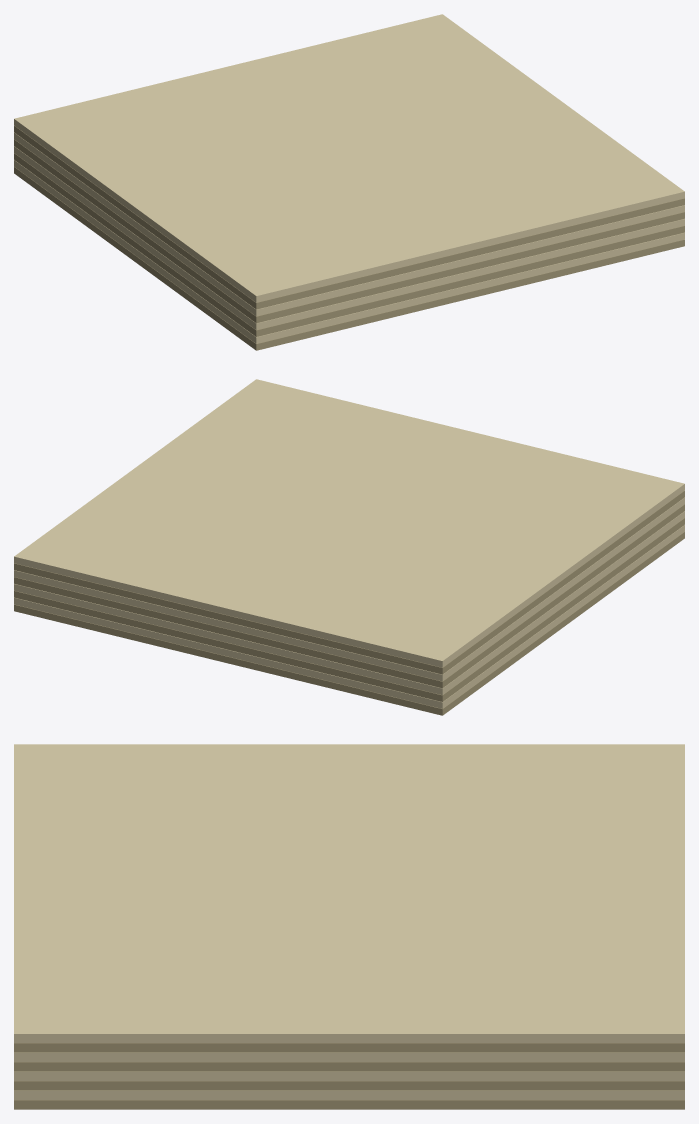
File: paper.glb
3 renders of one model, top to bottom at view 1: azimuth 30°, elevation 25°; view 2: azimuth 150°, elevation 25°; view 3: azimuth 270°, elevation 25°, orthographic. The views are drawn at different scales.
Visible parts, largest first — view 1: PaperLayer_7, PaperLayer_1, PaperLayer_5, PaperLayer_6, PaperLayer_0, PaperLayer_3, PaperLayer_4, PaperLayer_2; view 2: PaperLayer_7, PaperLayer_1, PaperLayer_5, PaperLayer_6, PaperLayer_0, PaperLayer_3, PaperLayer_4, PaperLayer_2; view 3: PaperLayer_7, PaperLayer_0, PaperLayer_1, PaperLayer_2, PaperLayer_3, PaperLayer_4, PaperLayer_5, PaperLayer_6.
Boxes of the visible parts, x1=… form: PaperLayer_7: x1=14, y1=14, x2=684, y2=302; PaperLayer_1: x1=14, y1=160, x2=684, y2=343; PaperLayer_5: x1=14, y1=132, x2=684, y2=316; PaperLayer_6: x1=14, y1=125, x2=684, y2=309; PaperLayer_0: x1=14, y1=167, x2=684, y2=350; PaperLayer_3: x1=14, y1=146, x2=684, y2=329; PaperLayer_4: x1=14, y1=139, x2=684, y2=323; PaperLayer_2: x1=14, y1=153, x2=684, y2=336; PaperLayer_7: x1=14, y1=379, x2=684, y2=667; PaperLayer_1: x1=14, y1=525, x2=684, y2=708; PaperLayer_5: x1=14, y1=497, x2=684, y2=681; PaperLayer_6: x1=14, y1=490, x2=684, y2=674; PaperLayer_0: x1=14, y1=532, x2=684, y2=715; PaperLayer_3: x1=14, y1=511, x2=684, y2=694; PaperLayer_4: x1=14, y1=504, x2=684, y2=688; PaperLayer_2: x1=14, y1=518, x2=684, y2=701; PaperLayer_7: x1=14, y1=744, x2=684, y2=1042; PaperLayer_0: x1=14, y1=1100, x2=684, y2=1109; PaperLayer_1: x1=14, y1=1090, x2=684, y2=1099; PaperLayer_2: x1=14, y1=1081, x2=684, y2=1090; PaperLayer_3: x1=14, y1=1071, x2=684, y2=1080; PaperLayer_4: x1=14, y1=1062, x2=684, y2=1071; PaperLayer_5: x1=14, y1=1052, x2=684, y2=1061; PaperLayer_6: x1=14, y1=1043, x2=684, y2=1052.
Bounding box in the file's own units: 0.49 × 0.0597 × 0.48.
